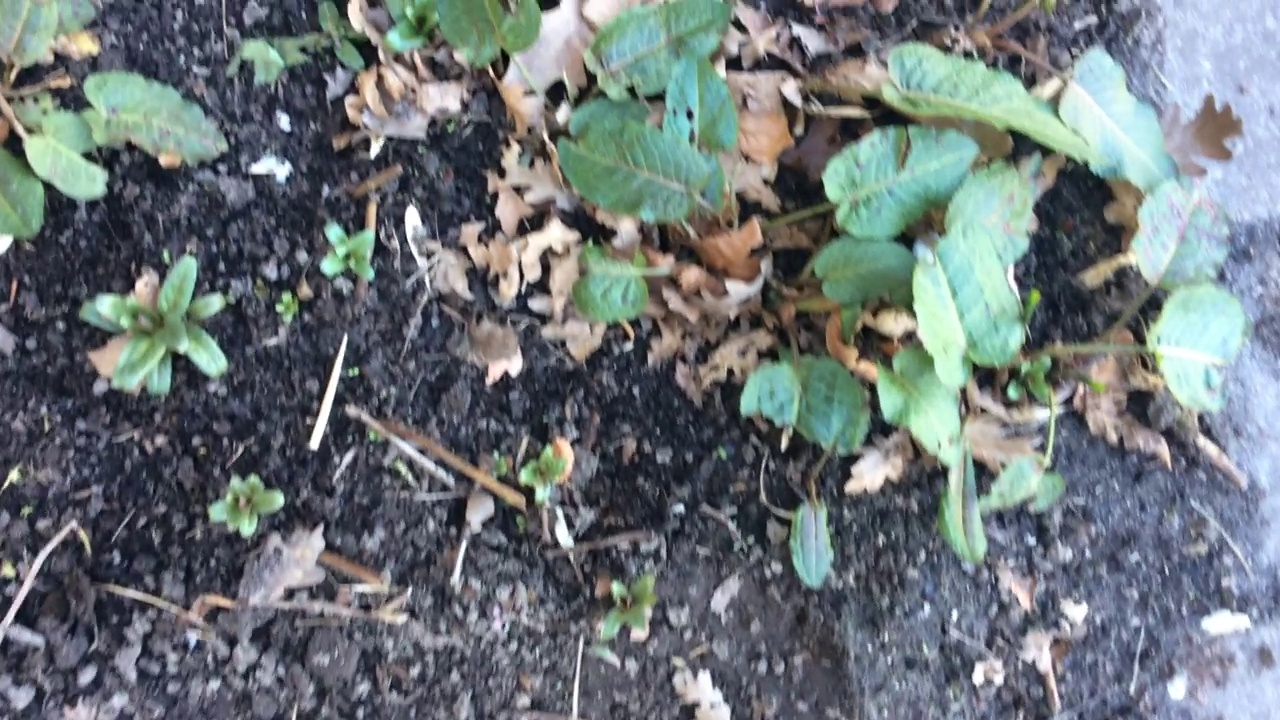rumex: (436, 9, 1253, 589), (1, 2, 233, 246)
